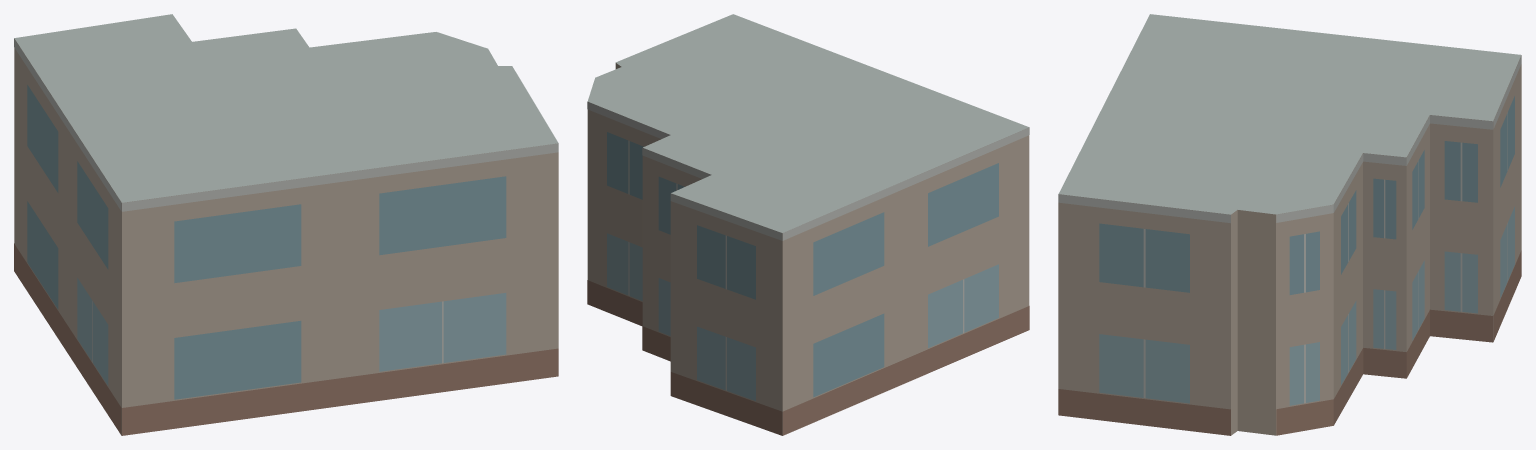
The model's file is survey-upis-32493682.glb.
3 renders of one model, left to right at view 1: azimuth 30°, elevation 25°; view 2: azimuth 150°, elevation 25°; view 3: azimuth 270°, elevation 25°, orthographic. The views are drawn at different scales.
Parts seen in each view (by area): view 1: survey-upis-32493682.tmp; view 2: survey-upis-32493682.tmp; view 3: survey-upis-32493682.tmp.
Part boxes in pixels (x1=…): survey-upis-32493682.tmp: x1=14, y1=14, x2=558, y2=435; survey-upis-32493682.tmp: x1=587, y1=14, x2=1029, y2=435; survey-upis-32493682.tmp: x1=1058, y1=14, x2=1521, y2=435.
Bounding box in the file's own units: 12.27 × 6.3 × 11.96.
